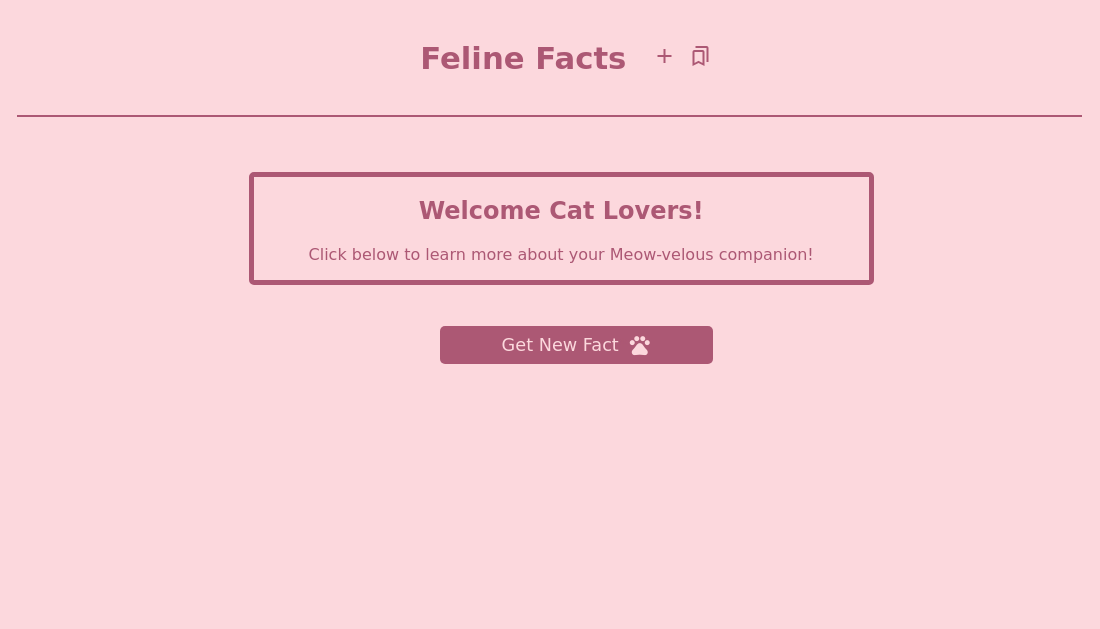
Test: home page › should display a welcome message on page load and display a fact when new fact button is clicked
The width and height of the screenshot is (1100, 629).
expect the navigation bar with class "nav" is shown: met, box [17, 0, 1083, 117]
expect the heading "Feline Facts" is shown: met, box [420, 40, 626, 76]
What coordinates should you click on to do the following:
click the button with class "get-random-button"
I would click on:
 (577, 345)
Its box is [440, 326, 713, 364].
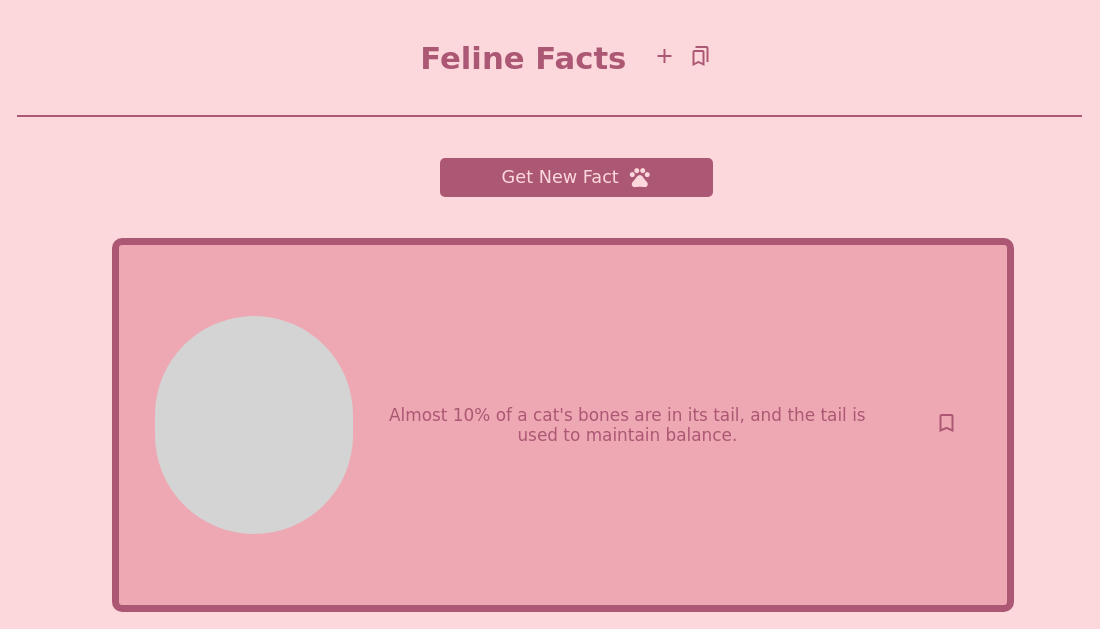
expect the text "Almost 10% of a cat's bones are in its tail, and the tail is used to maintain balance." is shown: met, box [389, 405, 866, 445]
expect the button with class "save-button" is shown: met, box [929, 411, 965, 440]
